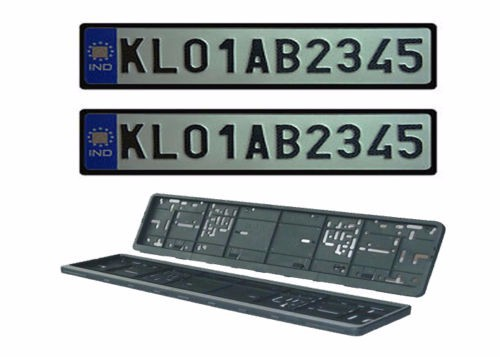inlp: (76, 103, 448, 181), (74, 19, 449, 96)
